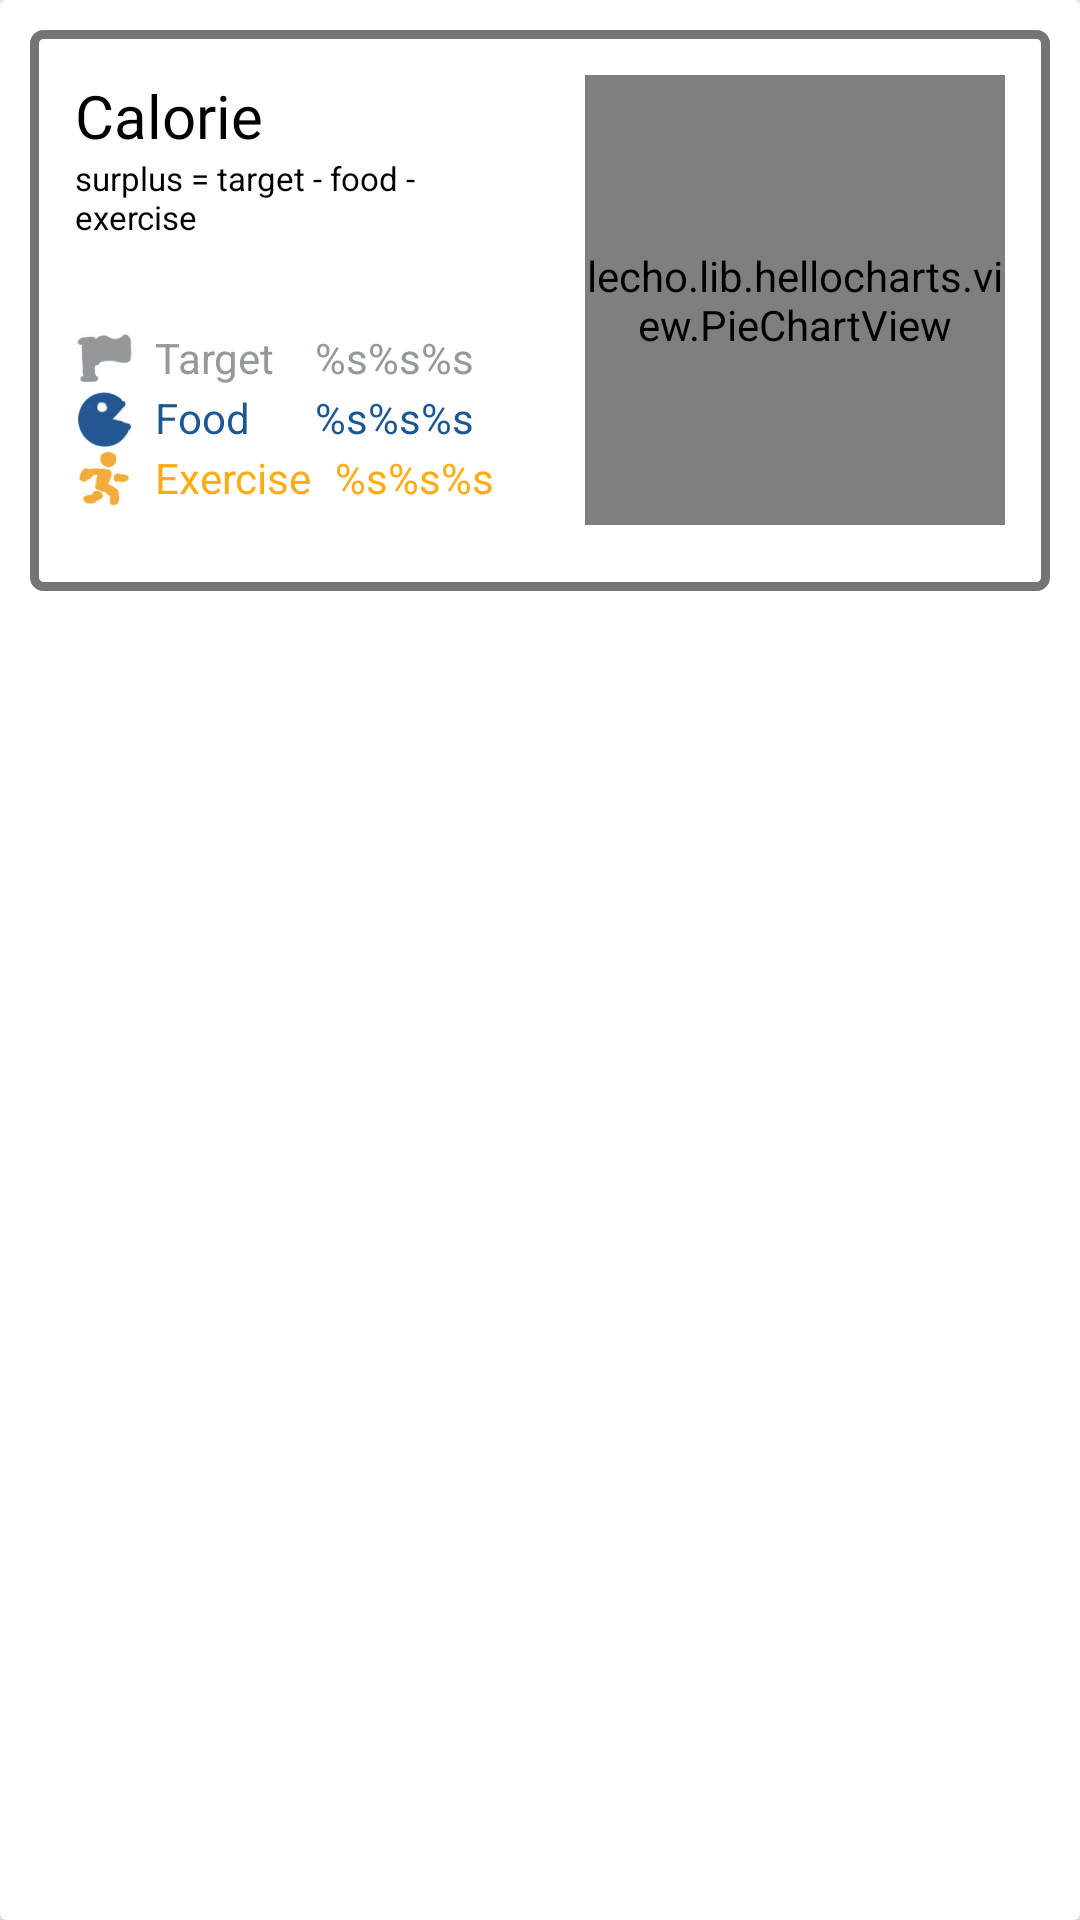

Named icons in this screenshot (1080*1920) and their centers, (x=x, y=y):
flag: (x=104, y=358)
